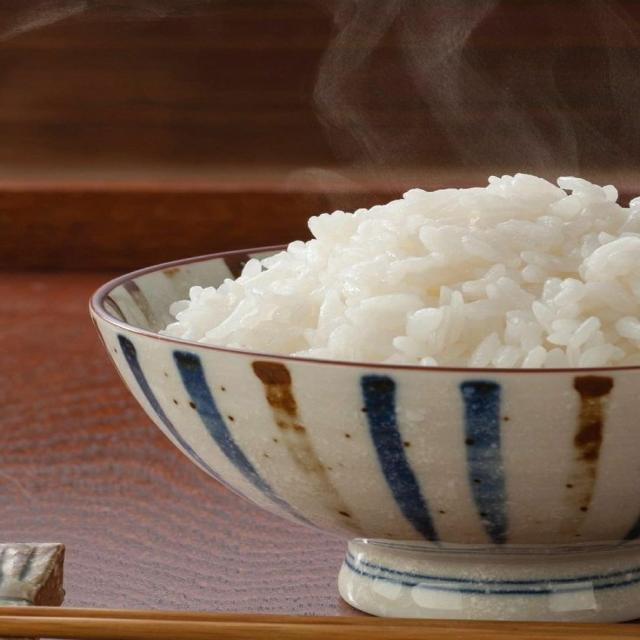rice: (165, 174, 639, 368)
